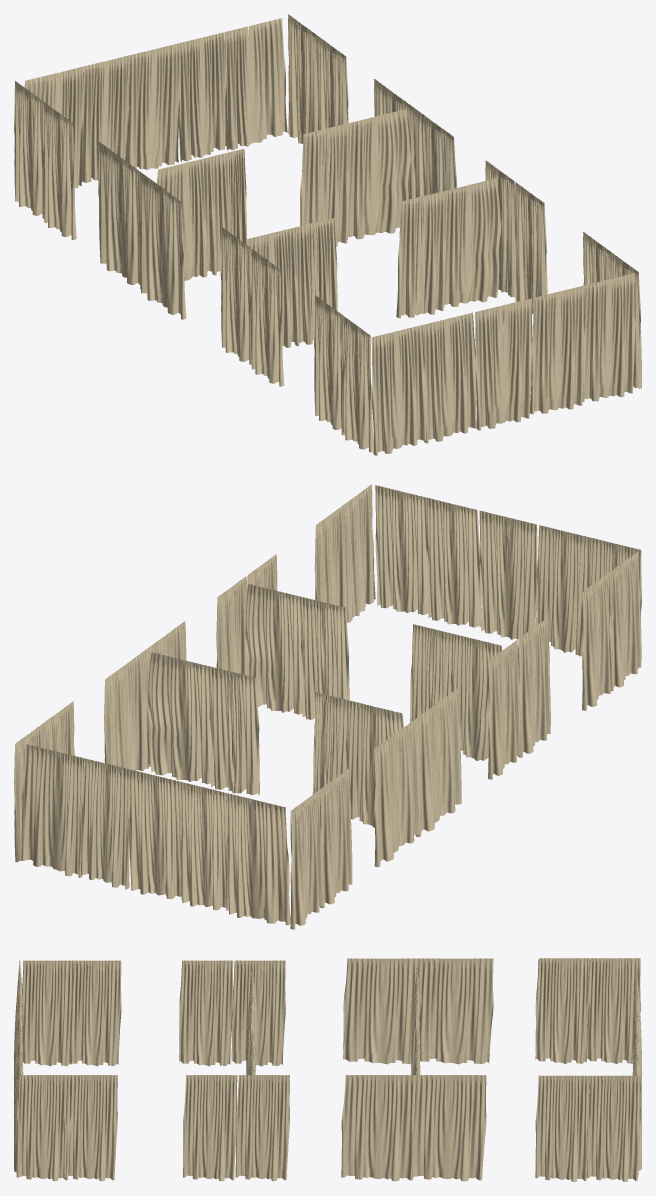
The model's file is curtain.glb.
3 views of the same model, one above another, from view 1: azimuth 30°, elevation 25°; view 2: azimuth 150°, elevation 25°; view 3: azimuth 270°, elevation 25° (orthographic). The views are drawn at different scales.
Parts seen in each view (by area): view 1: polySurface16001; view 2: polySurface16001; view 3: polySurface16001.
Part boxes in pixels (x1=…): polySurface16001: x1=14, y1=14, x2=641, y2=455; polySurface16001: x1=14, y1=484, x2=641, y2=929; polySurface16001: x1=14, y1=958, x2=641, y2=1181.
Size of the model in its own units: 0.6157 by 0.2461 by 1.34.
